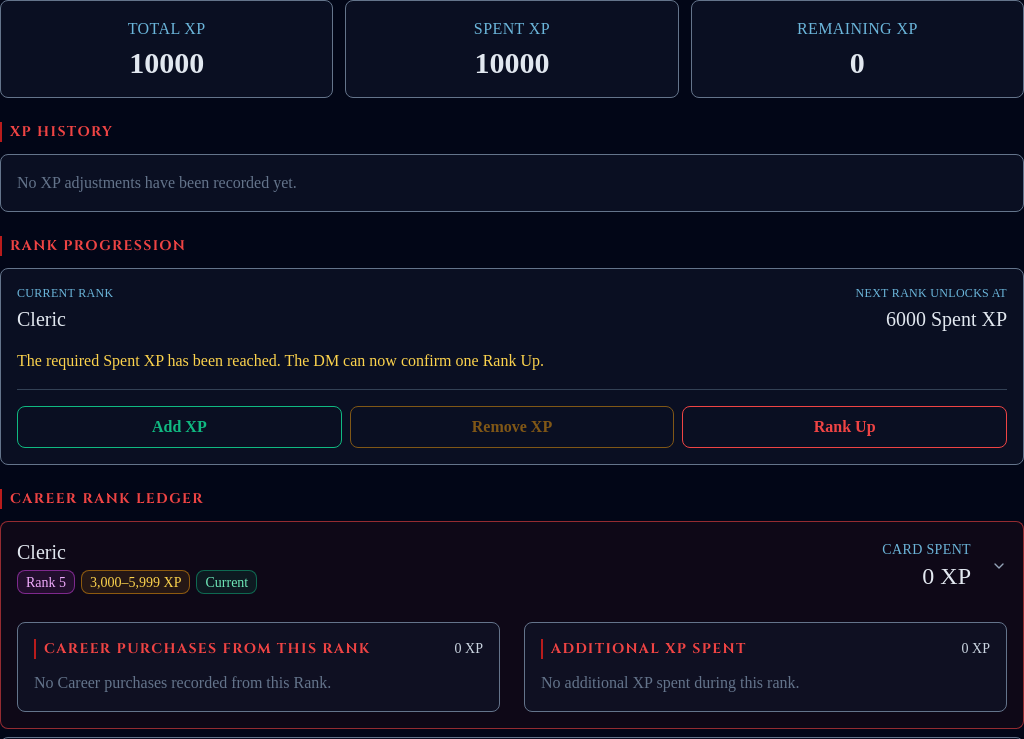
ExperienceTab named Career Rank ledger › opens the Rank Type picker only after its Career path is chosen
The width and height of the screenshot is (1024, 739).
Click the button "Rank Up".
click(845, 427)  # box 682,406 -> 1007,448
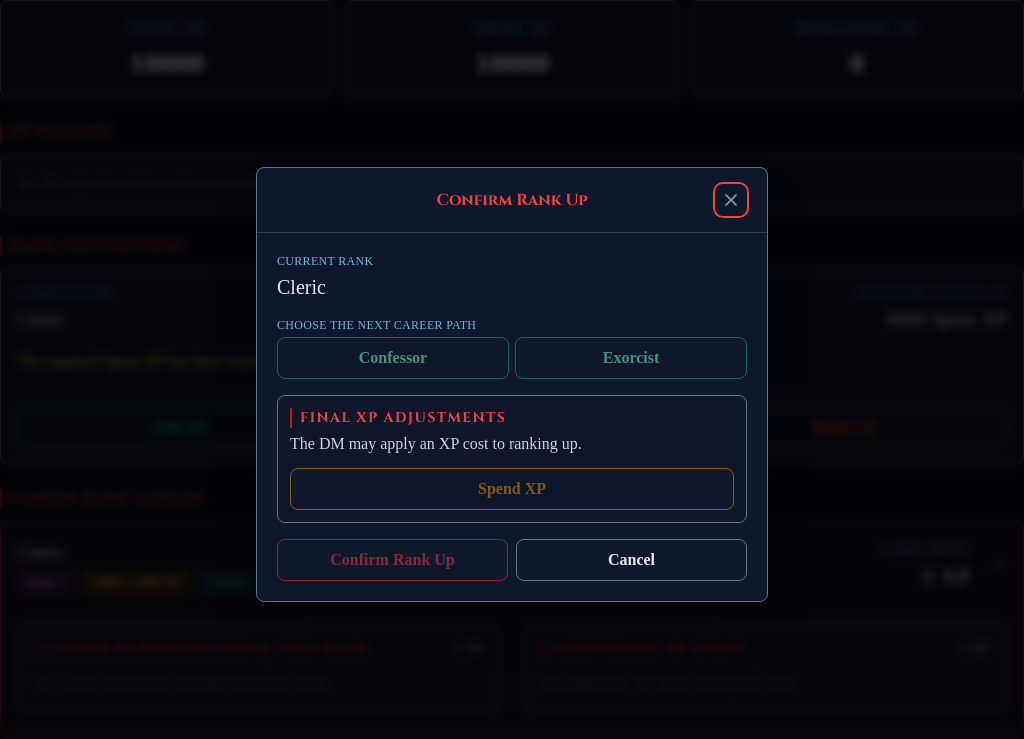
Expected: the text "Rank type" is not shown
Click the button "Exorcist".
click(631, 358)  # box 515,336 -> 747,378
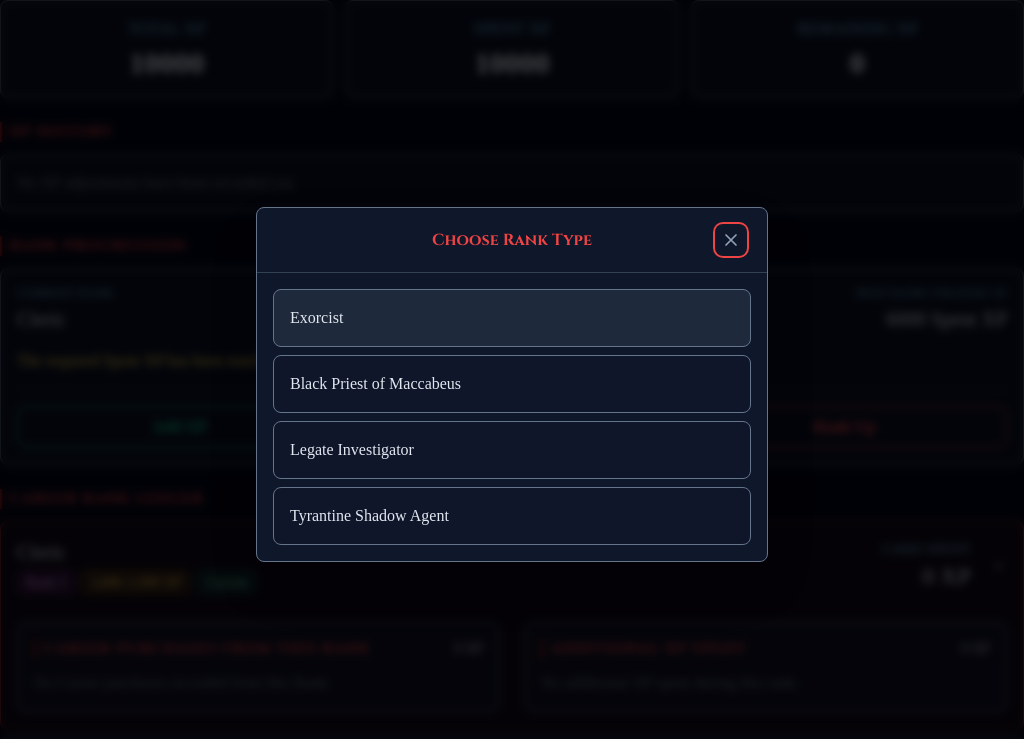
Expected: the text "Exorcist" is shown, 290,306 -> 343,330
Expected: the text "Black Priest of Maccabeus" is shown, 290,372 -> 461,396
Expected: the text "Legate Investigator" is shown, 290,438 -> 414,462
